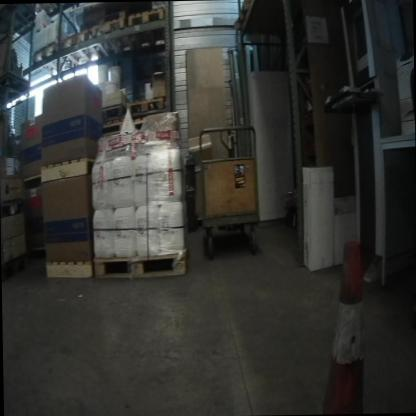pallet: (91, 250, 193, 289), (128, 8, 175, 63), (59, 27, 102, 78), (91, 14, 129, 68), (28, 38, 69, 83), (35, 150, 95, 179), (124, 91, 170, 121), (0, 66, 31, 108), (90, 120, 121, 152), (97, 98, 128, 125), (2, 192, 23, 220)
stillage: (0, 20, 33, 106), (0, 93, 36, 171)
